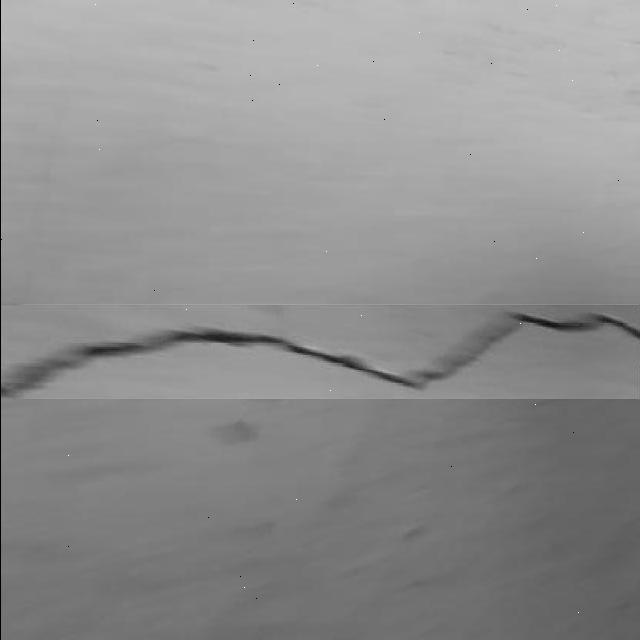crack: (1, 309, 639, 399)
